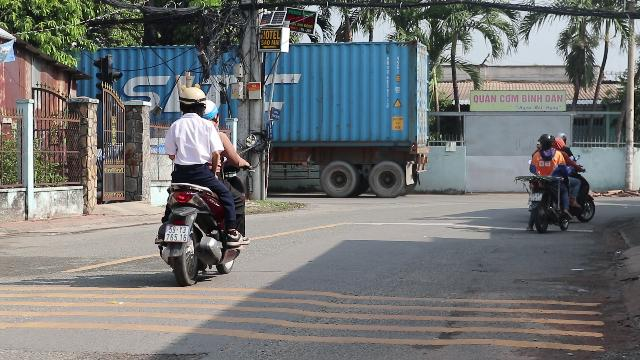helmet: (178, 85, 208, 115), (536, 133, 554, 151)
licenseplate: (165, 224, 189, 242), (530, 193, 542, 202)
motorcyclist: (153, 84, 251, 284), (524, 132, 572, 232)
